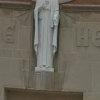Statue: (24, 2, 71, 85)
